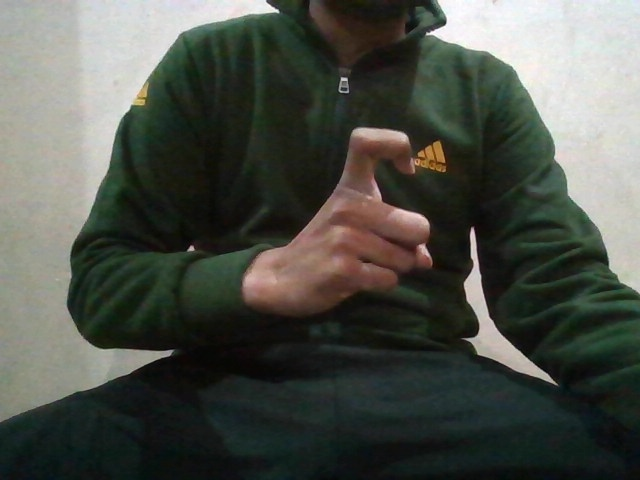P: (279, 127, 444, 323)
